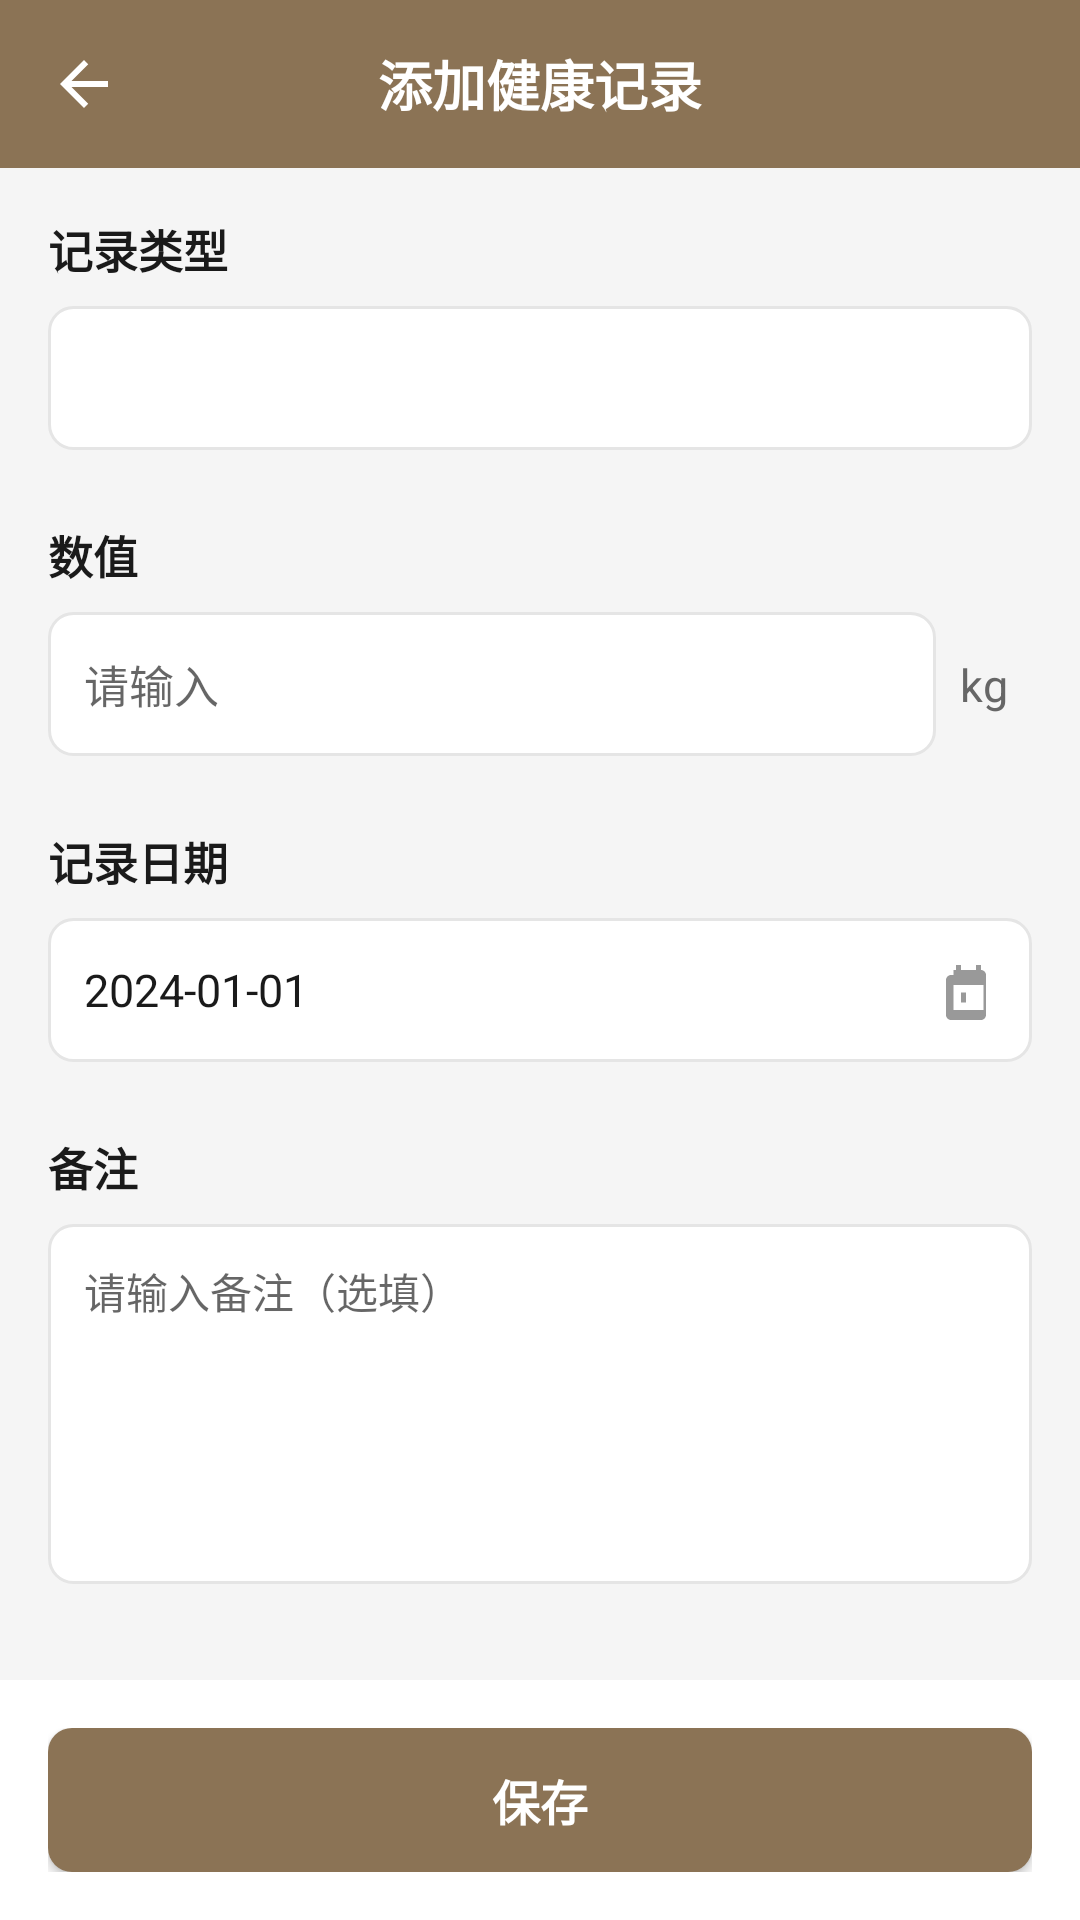

Screen size 1080 × 1920. Icon name, then its center in pixels as point (x, y):
arrow back: point (84, 84)
calendar: point (966, 992)
